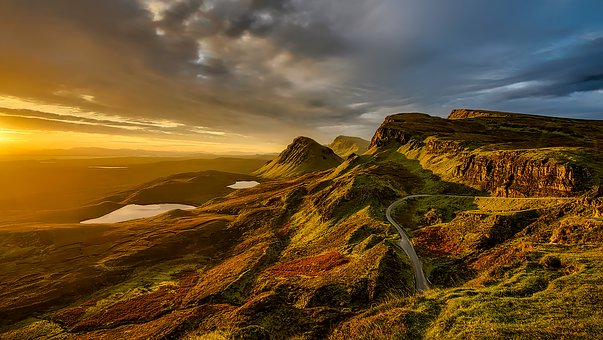mountain: (39, 117, 599, 335)
sky: (6, 9, 590, 141)
